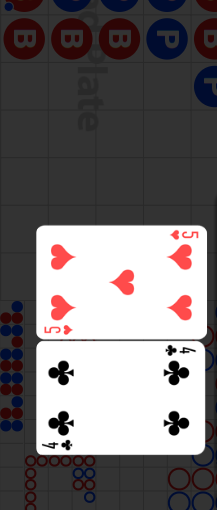4C: (163, 344, 197, 359)
5H: (168, 229, 200, 241)
